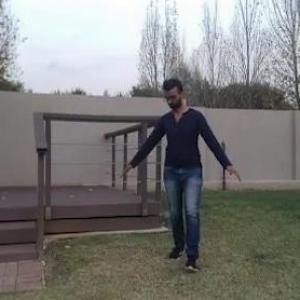land: (130, 75, 230, 282)
